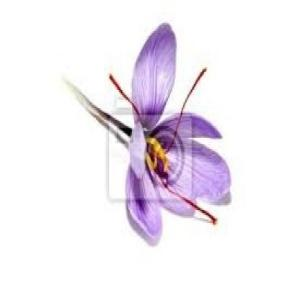Saffron: (123, 23, 232, 246)
